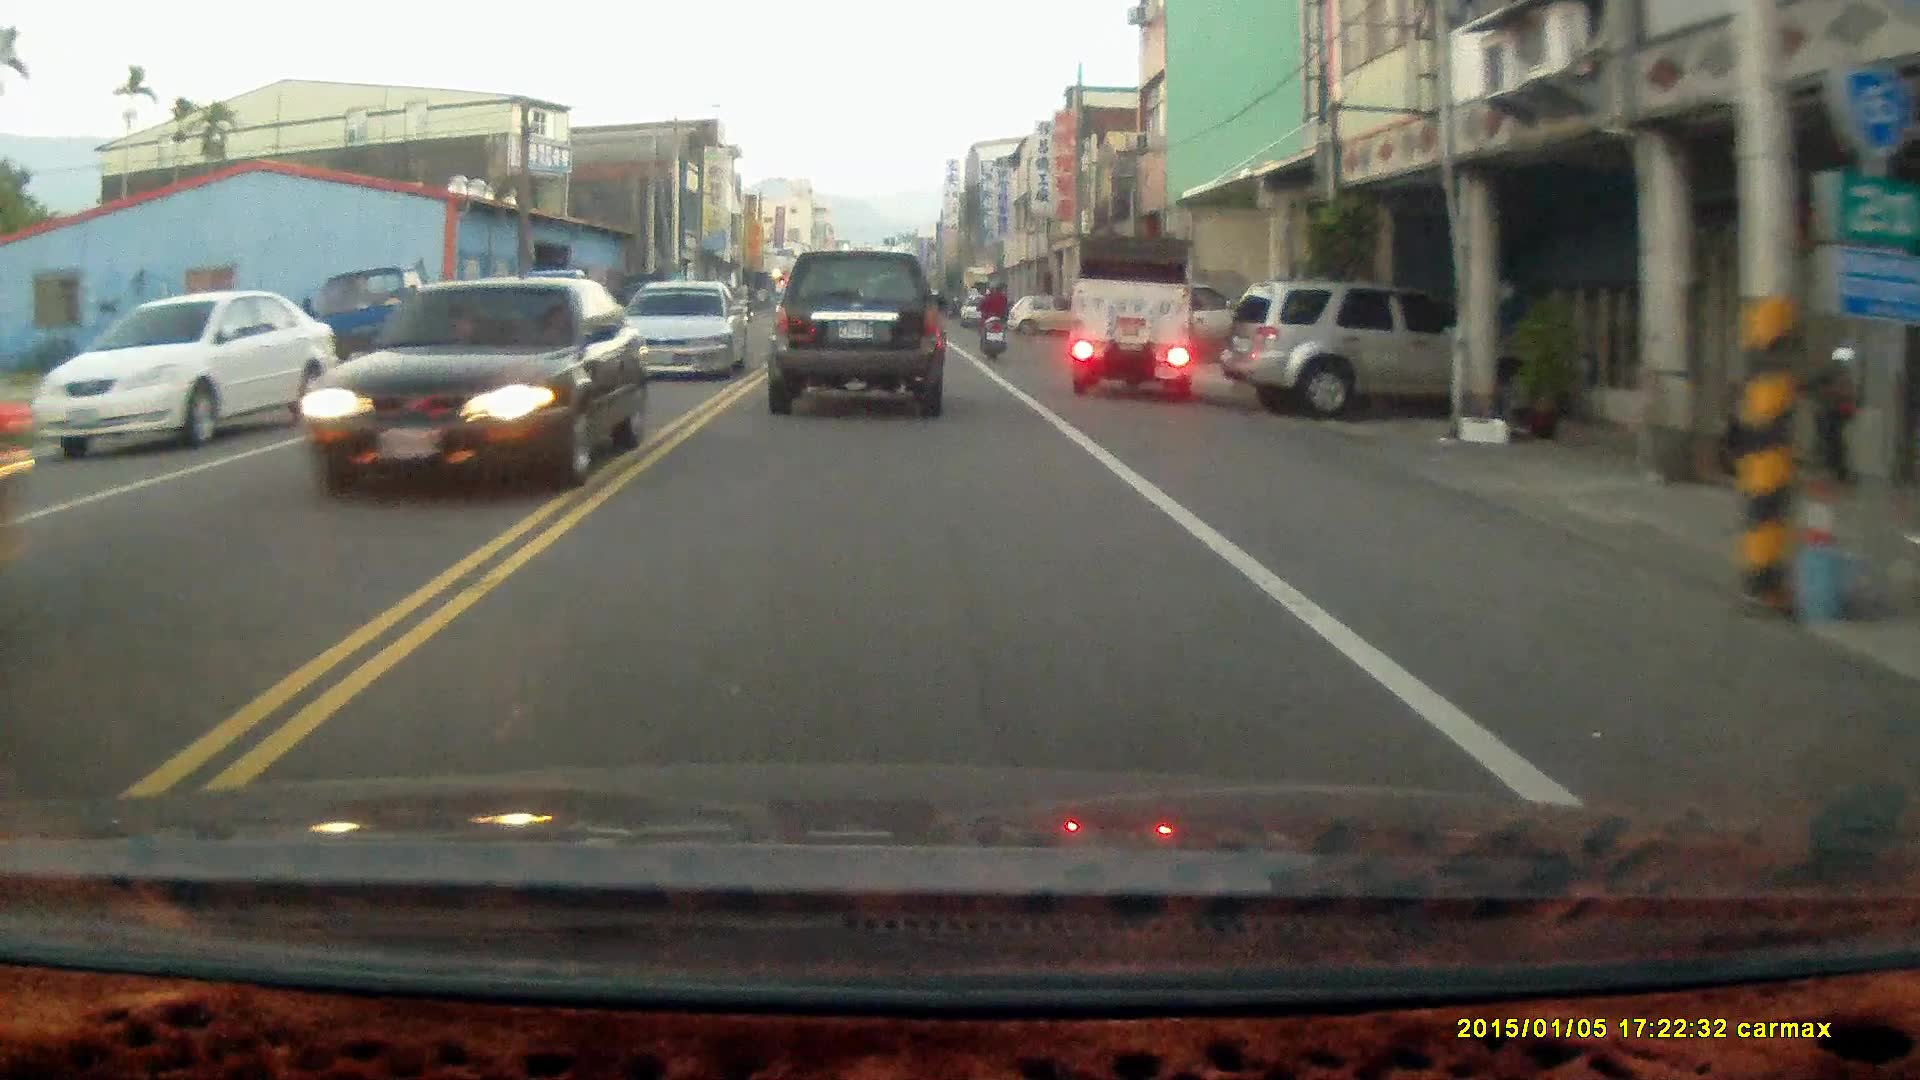rider: (973, 276, 1011, 363)
vehicle: (306, 280, 643, 500), (29, 292, 339, 458), (1239, 280, 1479, 424), (766, 258, 948, 426), (1067, 237, 1196, 399), (619, 284, 748, 385)
